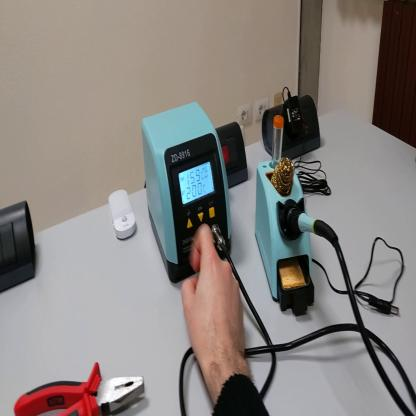hand: (183, 224, 247, 372)
pliers: (16, 363, 145, 413)
socket: (264, 89, 324, 164), (217, 121, 251, 192)
welder base: (256, 113, 316, 321)
welder probe tip: (289, 207, 337, 242)
welder station: (141, 101, 232, 284)
